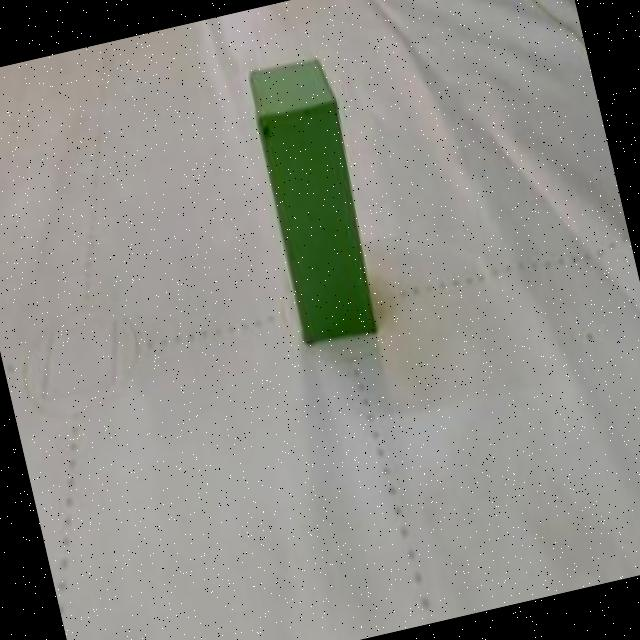greenbox: (236, 44, 394, 355)
